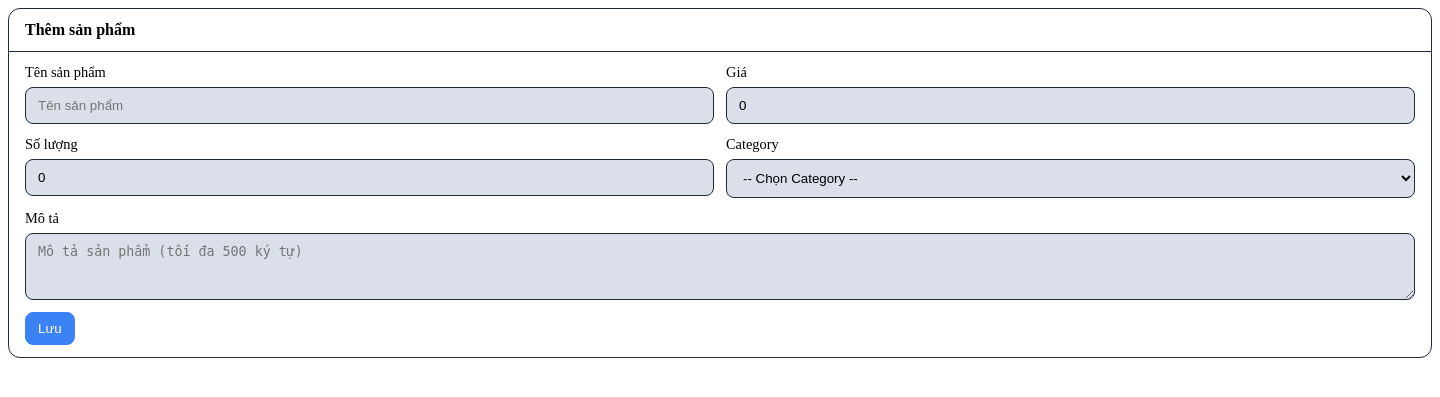
Test case: ProductForm Component Validation Handling › TC-RED-11: Nên hiển thị thông báo lỗi khi validateProduct trả về lỗi
// Tương tác: Nhấn nút Submit
Click the button "Lưu". click: (50, 328)
box: [25,312,75,345]
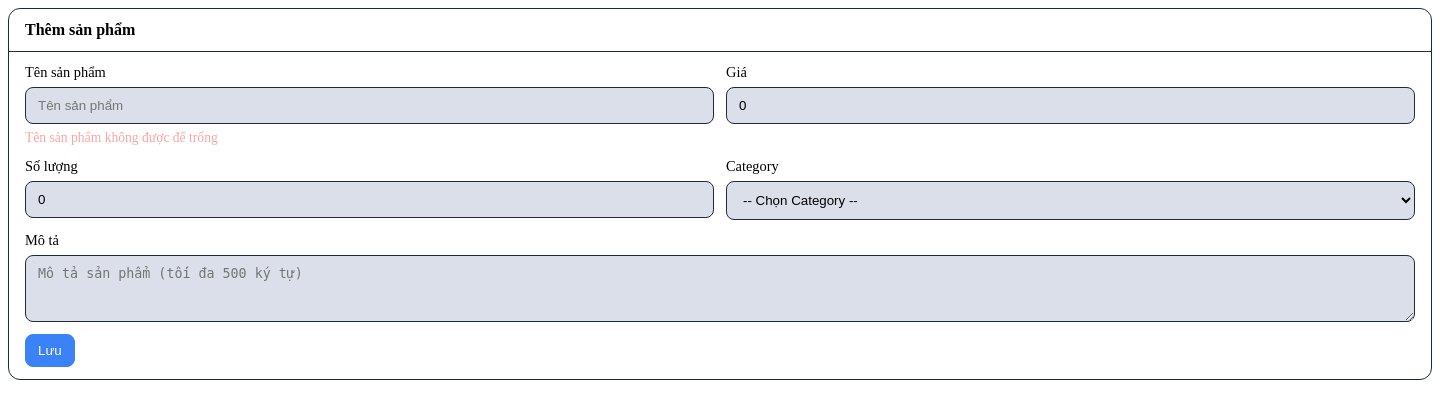
Result: the text with test id "name-error" reads "Tên sản phẩm không được để trống" at [25,130,218,145]
